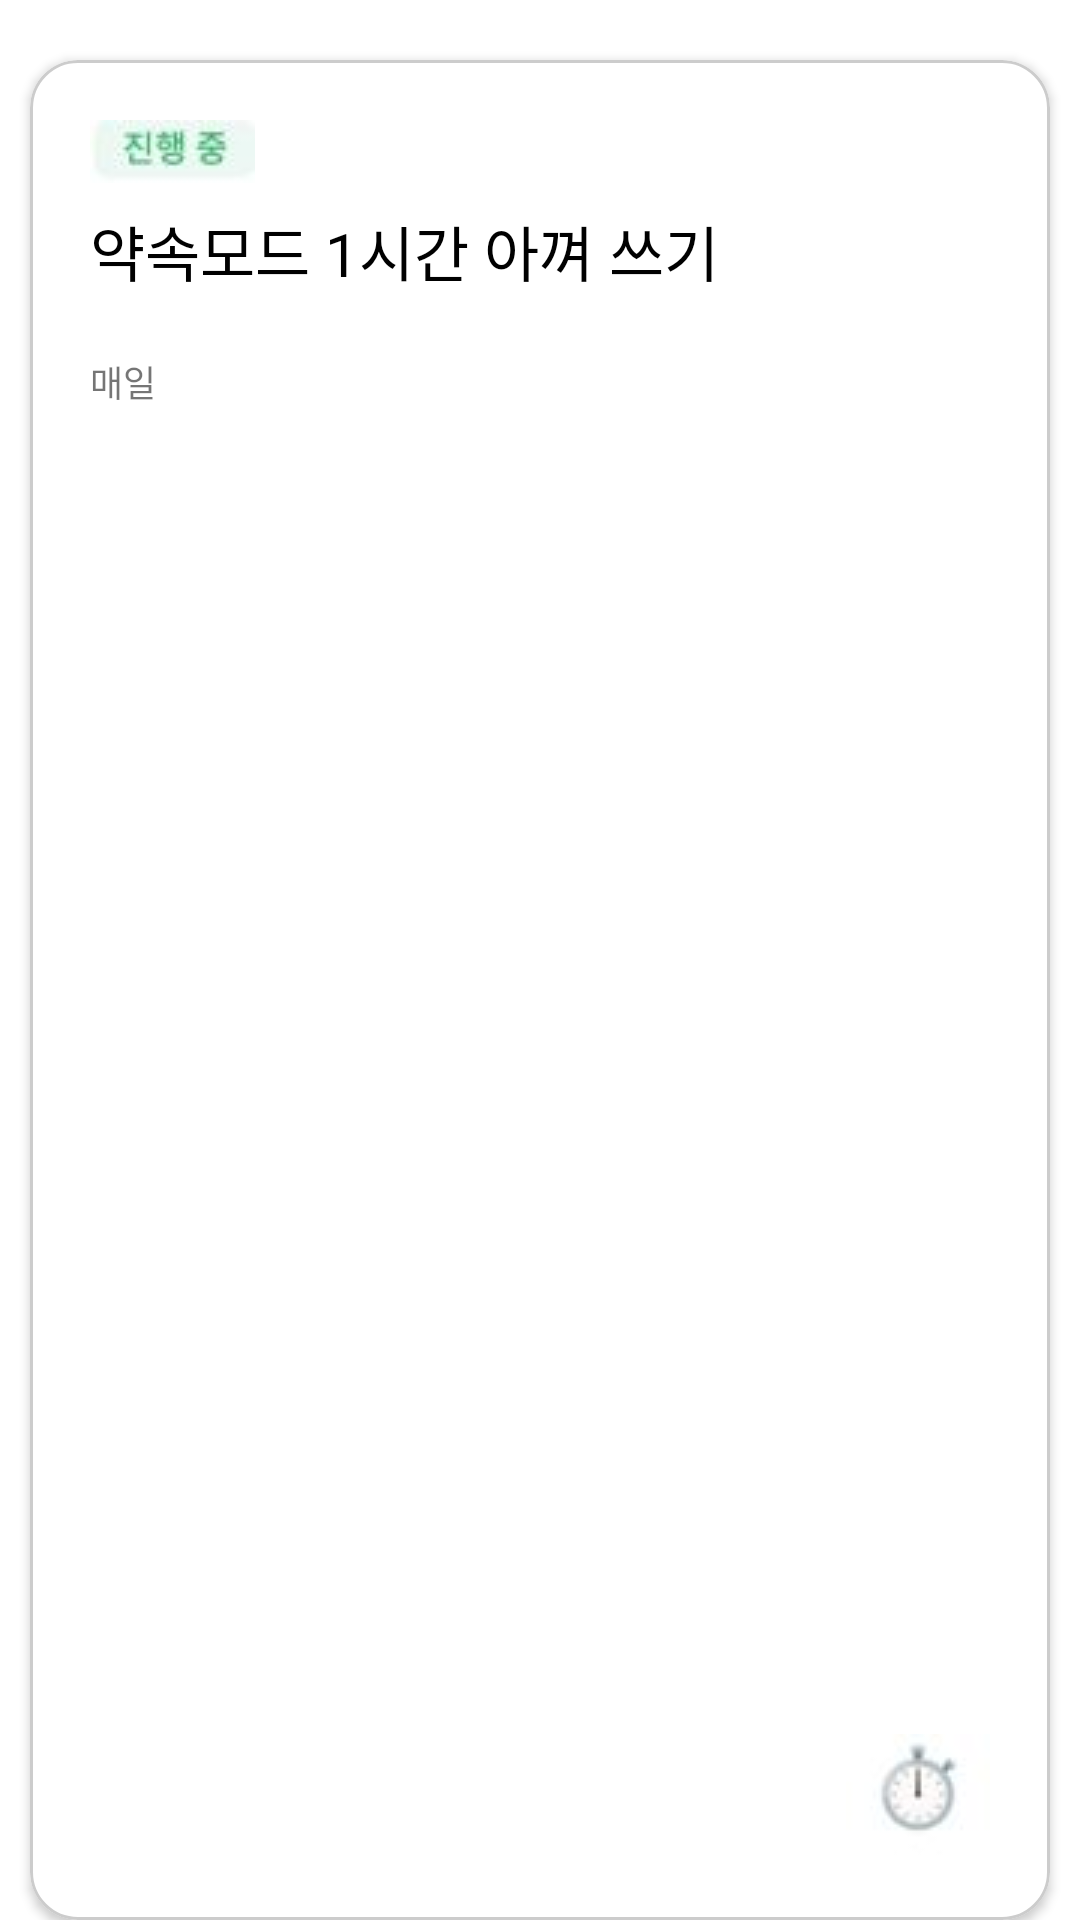

Icon bounding boxes for this 1080 x 1920 phone screenshot, format (x1, y1, x2, y2):
time: (882, 1745, 956, 1831)
